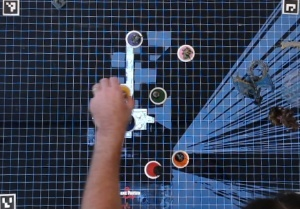blue: (117, 113, 136, 132)
green: (147, 83, 168, 104)
orange: (170, 149, 189, 169)
pink: (176, 41, 197, 62)
red: (141, 157, 163, 180)
violet: (125, 29, 145, 48)
yellow: (109, 80, 132, 102)
